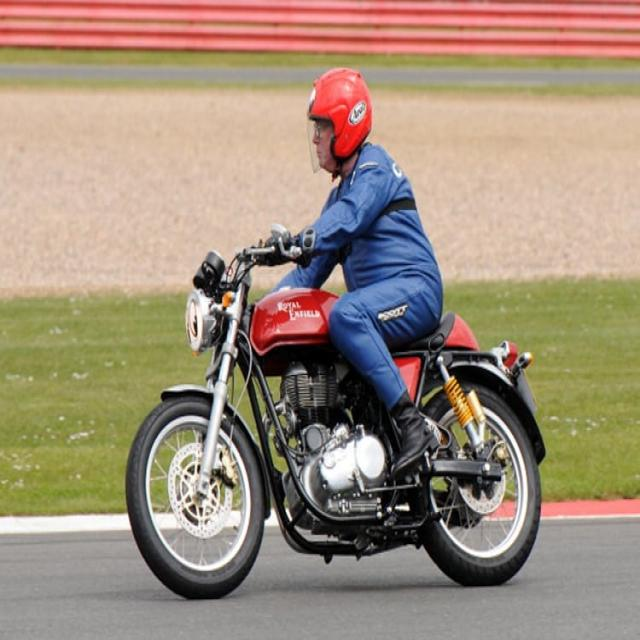motorcycle: (132, 240, 548, 600)
